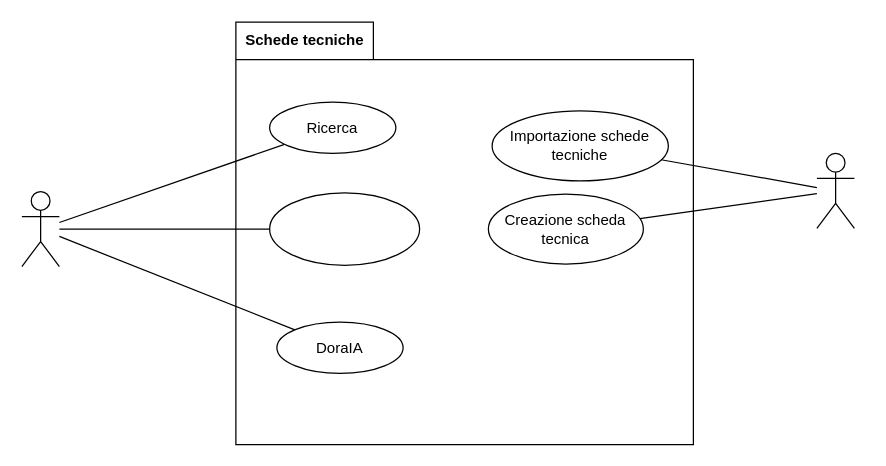
Image size: 886x466. Some labels were removed from this diagram. Here are the shapes that lost their labels. From the top down, the box of each, then its label:
(816, 152, 854, 228): Manager
(21, 190, 59, 266): User
(268, 192, 420, 265): Consultazione schede tecniche
